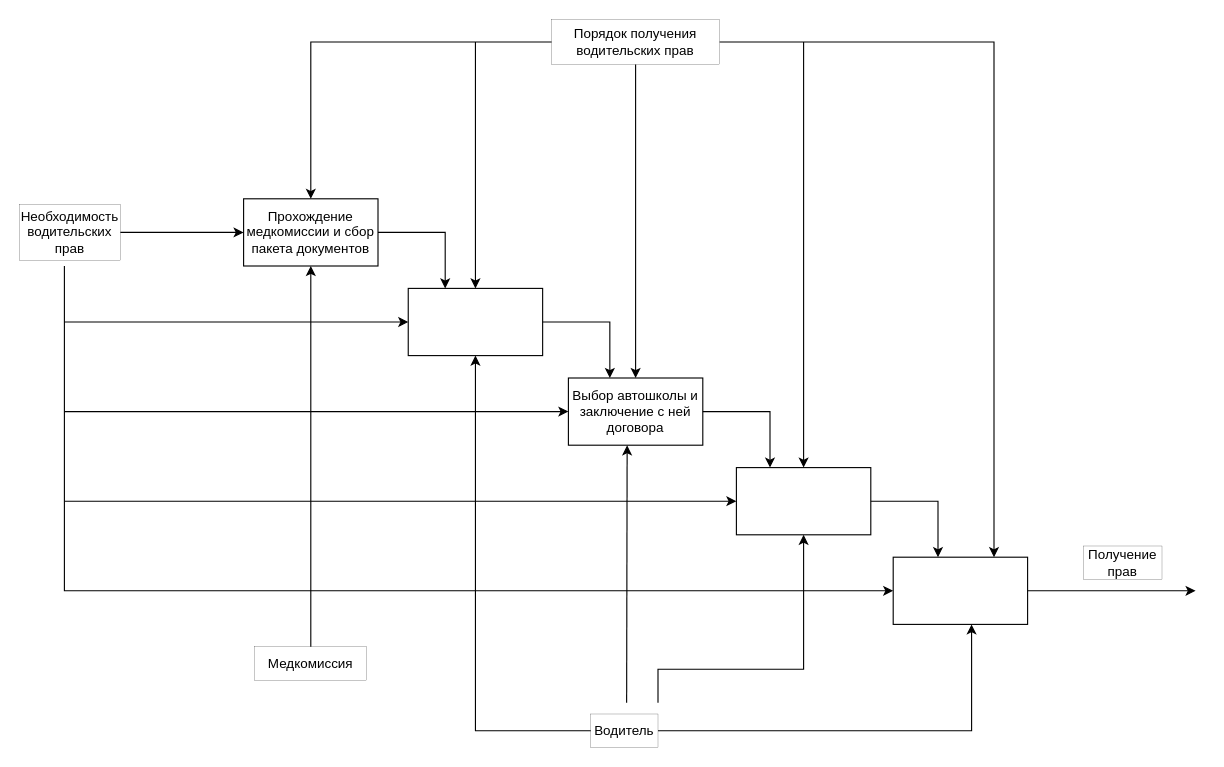
The diagram is 1224 pixels wide and 767 high, and some of its shapes have lost their labels. The shapes that lost their labels are listed below. From the top down, each one's centre as x and y in pixels, then its label:
At point 475,321: "Выбор категории прав".
At point 803,500: "Пройти обучение и сдать экзамены в автошколе".
At point 960,590: "Сдача экзамена в ГИБДД (теория и вождение)".
